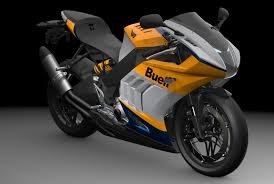motor: (29, 4, 248, 177)
